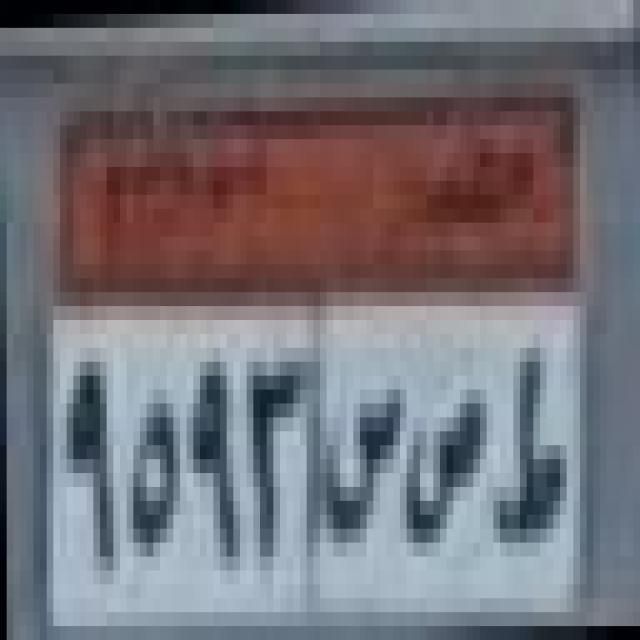3: (244, 342, 308, 574)
5: (129, 387, 184, 560)
9: (65, 352, 124, 584), (190, 358, 246, 569)
Saad: (402, 372, 492, 552)
Seen: (332, 361, 398, 549)
Taa: (504, 347, 568, 551)
